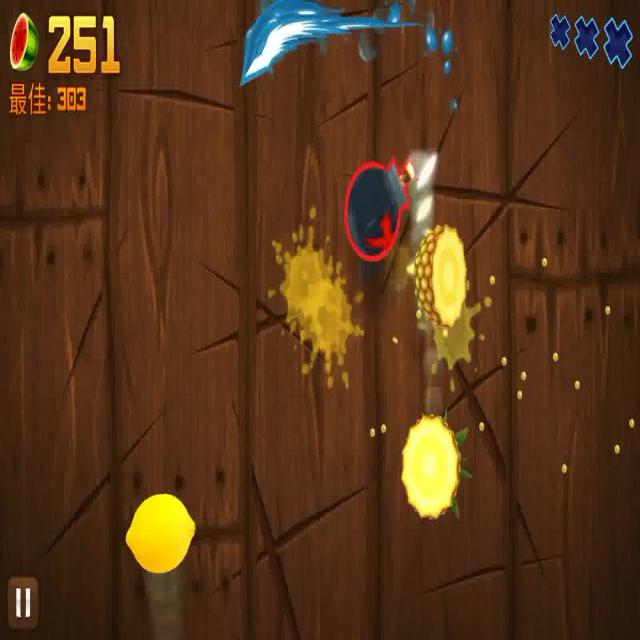bomb: (343, 158, 413, 262)
fruit: (403, 408, 473, 522), (416, 220, 468, 332), (122, 494, 195, 572)
